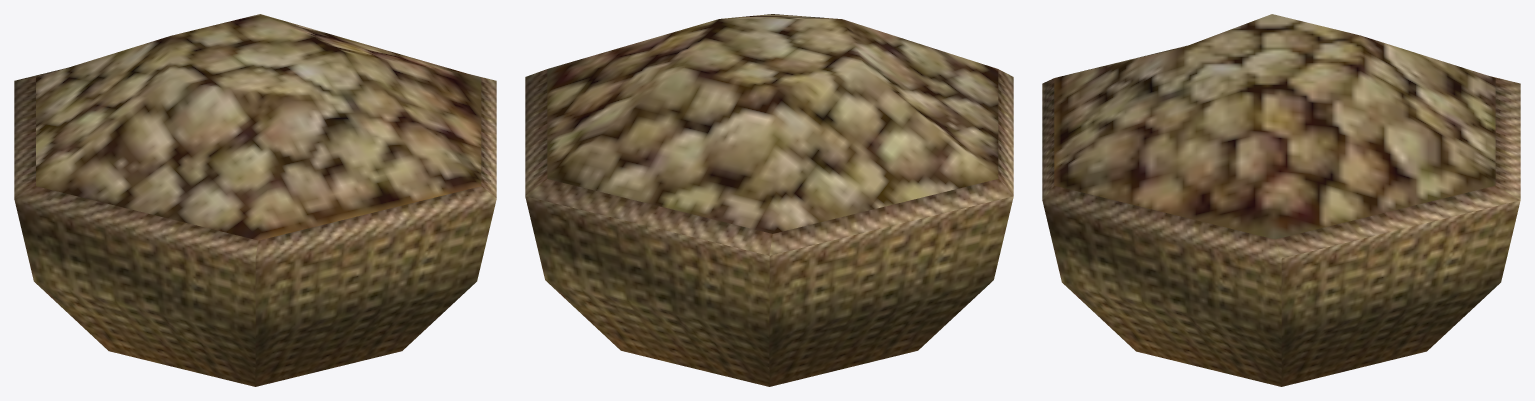
The model's file is cj_potato_basket.glb.
3 views of the same model, side by side, from view 1: azimuth 30°, elevation 25°; view 2: azimuth 150°, elevation 25°; view 3: azimuth 270°, elevation 25° (orthographic). The views are drawn at different scales.
Visible parts, largest first — view 1: CJ_Potato_basket; view 2: CJ_Potato_basket; view 3: CJ_Potato_basket.
Part boxes in pixels (x1,y1,x2,y2): CJ_Potato_basket: (14, 14, 496, 386); CJ_Potato_basket: (525, 14, 1013, 386); CJ_Potato_basket: (1042, 14, 1520, 386).
Size of the model in its own units: 0.6096 by 0.3153 by 0.528.
Materials: 1 (1 with a texture image).
